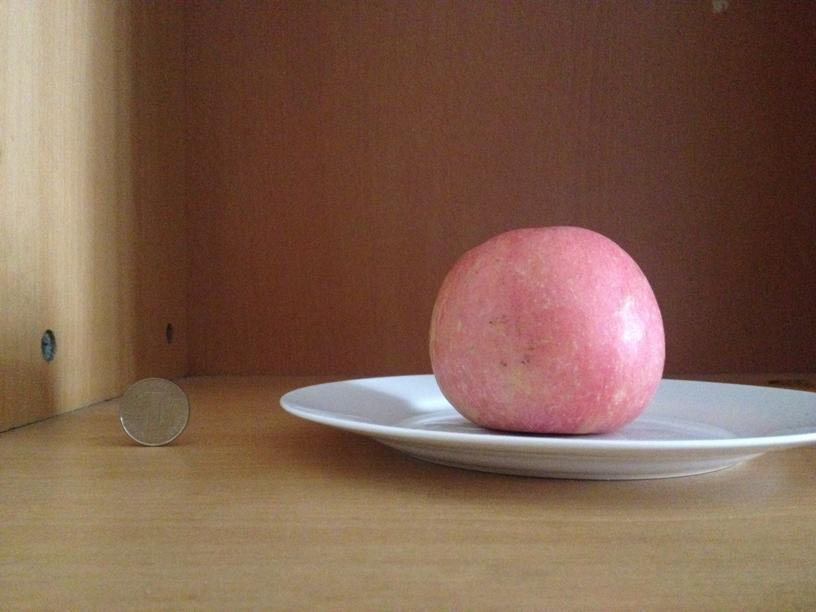apple: (430, 226, 665, 434)
coin: (118, 378, 189, 446)
